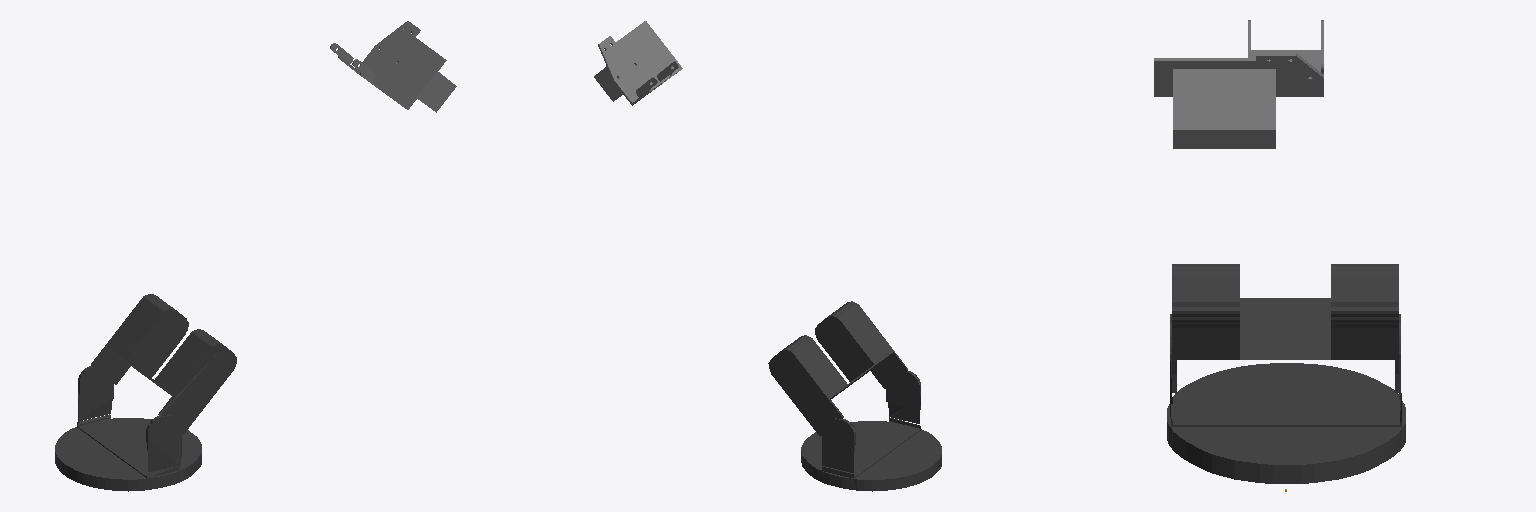
URDF robot description (ax12_arm):
<?xml version="1.0" ?>
<!-- =================================================================================== -->
<!-- |    This document was autogenerated by xacro from ax12_arm_robot.xacro           | -->
<!-- |    EDITING THIS FILE BY HAND IS NOT RECOMMENDED                                 | -->
<!-- =================================================================================== -->
<robot name="ax12_arm" xmlns:controller="http://playerstage.sourceforge.net/gazebo/xmlschema/#controller" xmlns:interface="http://playerstage.sourceforge.net/gazebo/xmlschema/#interface" xmlns:sensor="http://playerstage.sourceforge.net/gazebo/xmlschema/#sensor" xmlns:xacro="http://www.ros.org/wiki/xacro">
  <!-- Included URDF Files -->
  <material name="Grey">
    <color rgba="0.5 0.5 0.5 1.0"/>
  </material>
  <material name="DarkGrey">
    <color rgba="0.3 0.3 0.3 1.0"/>
  </material>
  <material name="Red">
    <color rgba="0.9 0.2 0.2 1.0"/>
  </material>
  <material name="Blue">
    <color rgba="0.2 0.2 0.9 1.0"/>
  </material>
  <link name="base_link">
    <visual>
      <origin rpy="0 0 0" xyz="0 0 0"/>
      <geometry>
        <box size="0.001 0.001 0.001"/>
      </geometry>
    </visual>
    <collision>
      <origin rpy="0 0 0" xyz="0 0 0"/>
      <geometry>
        <box size="0.001 0.001 0.001"/>
      </geometry>
    </collision>
  </link>
  <joint name="arm_base_joint" type="fixed">
    <origin rpy="0 0 0" xyz="0 0 0"/>
    <parent link="base_link"/>
    <child link="arm_base_link"/>
  </joint>
  <joint name="shoulder_pan_joint" type="revolute">
    <origin rpy="0 0 0" xyz="-0.0075 0 0.025"/>
    <parent link="arm_base_link"/>
    <child link="arm_shoulder_pan_link"/>
    <axis xyz="0 0 1"/>
    <limit effort="300" lower="-1.6" upper="1.6" velocity="0.4"/>
    <safety_controller k_position="100" k_velocity="15.0" soft_lower_limit="-1.12" soft_upper_limit="1.12"/>
    <dynamics damping="50" friction="1"/>
  </joint>
  <joint name="shoulder_pitch_joint" type="revolute">
    <origin rpy="0 -0.7854 0" xyz="0.044 0 0.090"/>
    <parent link="arm_shoulder_pan_link"/>
    <child link="arm_shoulder_pitch_link"/>
    <axis xyz="0 1 0"/>
    <limit effort="300" lower="-1.5" upper="1.2" velocity="0.4"/>
    <safety_controller k_position="100" k_velocity="15.0" soft_lower_limit="-0.94719755" soft_upper_limit="1.872222"/>
    <dynamics damping="50" friction="1"/>
  </joint>
  <joint name="elbow_flex_joint" type="revolute">
    <origin rpy="0 0 0" xyz="0.1815 0 0"/>
    <parent link="arm_shoulder_pitch_link"/>
    <child link="arm_elbow_flex_link"/>
    <axis xyz="0 -1 0"/>
    <limit effort="300" lower="-1.5" upper="1.5" velocity="0.4"/>
    <dynamics damping="50" friction="1"/>
    <safety_controller k_position="100" k_velocity="15.0" soft_lower_limit="-1.872222" soft_upper_limit="1.7849556"/>
  </joint>
  <joint name="wrist_roll_joint" type="revolute">
    <origin rpy="3.14159 0 0" xyz="0.07 0 0.023"/>
    <parent link="arm_elbow_flex_link"/>
    <child link="gripper_roll_link"/>
    <axis xyz="1 0 0"/>
    <limit effort="300" lower="-1.5" upper="1.5" velocity="1.17"/>
    <dynamics damping="50" friction="1"/>
    <safety_controller k_position="100" k_velocity="15.0" soft_lower_limit="-2.5179939" soft_upper_limit="2.5179939"/>
  </joint>
  <link name="arm_base_link">
    <inertial>
      <mass value="0.125"/>
      <origin rpy="0 0 0" xyz="0 0 0.00893364"/>
      <inertia ixx="1.0" ixy="0.0" ixz="0.0" iyy="1.0" iyz="0.0" izz="1.0"/>
    </inertial>
    <visual>
      <origin rpy="0 0 0" xyz="0.0 0.0 0.0"/>
      <geometry>
        <mesh filename="package://ax12_description/meshes/stl/arm_base.stl"/>
      </geometry>
      <material name="Grey"/>
    </visual>
    <collision>
      <origin rpy="0 0 0" xyz="0.0 0.0 0.0"/>
      <geometry>
        <mesh filename="package://ax12_description/meshes/stl/arm_base.stl"/>
      </geometry>
    </collision>
  </link>
  <link name="arm_shoulder_pan_link">
    <inertial>
      <mass value="0.405"/>
      <origin rpy="0 0 0" xyz="0.02988871 0 0.02056699"/>
      <inertia ixx="1.0" ixy="0.0" ixz="0.0" iyy="1.0" iyz="0.0" izz="1.0"/>
    </inertial>
    <visual>
      <origin rpy="0 0 0" xyz="0.0 0.0 0.005"/>
      <geometry>
        <mesh filename="package://ax12_description/meshes/stl/arm_shoulder_pan_new.stl"/>
      </geometry>
      <material name="DarkGrey"/>
    </visual>
    <collision>
      <origin rpy="0 0 0" xyz="0.0 0.0 0.0"/>
      <geometry>
        <mesh filename="package://ax12_description/meshes/stl/arm_shoulder_pan_new.stl"/>
      </geometry>
    </collision>
  </link>
  <link name="arm_shoulder_pitch_link">
    <inertial>
      <mass value="0.18"/>
      <origin rpy="0 0 0" xyz="0.13999458 0 0.00064711"/>
      <inertia ixx="1.0" ixy="0.0" ixz="0.0" iyy="1.0" iyz="0.0" izz="1.0"/>
    </inertial>
    <visual>
      <origin rpy="0 0 0" xyz="0.0 0.0 0.0"/>
      <geometry>
        <mesh filename="package://ax12_description/meshes/stl/arm_shoulder_pitch.stl"/>
      </geometry>
      <material name="Grey"/>
    </visual>
    <collision>
      <origin rpy="0 0 0" xyz="0.0 0.0 0.0"/>
      <geometry>
        <mesh filename="package://ax12_description/meshes/stl/arm_shoulder_pitch.stl"/>
      </geometry>
    </collision>
  </link>
  <link name="arm_elbow_flex_link">
    <inertial>
      <mass value="0.12"/>
      <origin rpy="0 0 0" xyz="0.04463361 0 0.00720194"/>
      <inertia ixx="1.0" ixy="0.0" ixz="0.0" iyy="1.0" iyz="0.0" izz="1.0"/>
    </inertial>
    <visual>
      <origin rpy="0 0 0" xyz="0.0 0.0 0.0"/>
      <geometry>
        <mesh filename="package://ax12_description/meshes/stl/arm_elbow_flex.stl"/>
      </geometry>
      <material name="DarkGrey"/>
    </visual>
    <collision>
      <origin rpy="0 0 0" xyz="0.0 0.0 0.0"/>
      <geometry>
        <mesh filename="package://ax12_description/meshes/stl/arm_elbow_flex.stl"/>
      </geometry>
    </collision>
  </link>
  <transmission name="shoulder_pan_trans" type="pr2_mechanism_model/SimpleTransmission">
    <actuator name="shoulder_pan_motor"/>
    <joint name="shoulder_pan_joint"/>
    <mechanicalReduction>1.0</mechanicalReduction>
  </transmission>
  <transmission name="shoulder_pitch_trans" type="pr2_mechanism_model/SimpleTransmission">
    <actuator name="shoulder_pitch_motor"/>
    <joint name="shoulder_pitch_joint"/>
    <mechanicalReduction>1.0</mechanicalReduction>
  </transmission>
  <transmission name="elbow_flex_trans" type="pr2_mechanism_model/SimpleTransmission">
    <actuator name="elbow_flex_motor"/>
    <joint name="elbow_flex_joint"/>
    <mechanicalReduction>1.0</mechanicalReduction>
  </transmission>
  <transmission name="wrist_roll_trans" type="pr2_mechanism_model/SimpleTransmission">
    <actuator name="wrist_roll_motor"/>
    <joint name="wrist_roll_joint"/>
    <mechanicalReduction>1.0</mechanicalReduction>
  </transmission>
  <gazebo reference="arm_base_link">
    <material>Gazebo/Grey</material>
    <turnGravityOff>false</turnGravityOff>
  </gazebo>
  <gazebo reference="arm_shoulder_pan_link">
    <material>Gazebo/Grey</material>
    <turnGravityOff>false</turnGravityOff>
  </gazebo>
  <gazebo reference="arm_shoulder_pitch_link">
    <material>Gazebo/Grey</material>
    <turnGravityOff>false</turnGravityOff>
  </gazebo>
  <gazebo reference="arm_elbow_flex_link">
    <material>Gazebo/Grey</material>
    <turnGravityOff>false</turnGravityOff>
  </gazebo>
  <gazebo reference="shoulder_pan_joint">
    <stopKd value="1.0"/>
    <stopKp value="1000000.0"/>
    <fudgeFactor value="0.5"/>
  </gazebo>
  <gazebo reference="shoulder_pitch_joint">
    <stopKd value="1.0"/>
    <stopKp value="1000000.0"/>
    <fudgeFactor value="0.5"/>
  </gazebo>
  <gazebo reference="elbow_flex_joint">
    <stopKd value="1.0"/>
    <stopKp value="1000000.0"/>
    <fudgeFactor value="0.5"/>
  </gazebo>
  <link name="gripper_roll_link">
    <inertial>
      <origin xyz="0 0 0"/>
      <mass value="1.0"/>
      <inertia ixx="1.0" ixy="0.0" ixz="0.0" iyy="1.0" iyz="0.0" izz="1.0"/>
    </inertial>
    <visual>
      <origin rpy="0 0 0" xyz="0 0 0"/>
      <geometry>
        <mesh filename="package://ax12_description/meshes/stl/gripper_roll_link_scaled.stl"/>
      </geometry>
      <material name="Grey"/>
    </visual>
    <collision>
      <origin rpy="0 0 0" xyz="0 0 0"/>
      <geometry>
        <mesh filename="package://ax12_description/meshes/stl/gripper_roll_link_scaled.stl"/>
      </geometry>
    </collision>
  </link>
  <gazebo reference="gripper_roll_link">
    <material>Gazebo/Grey</material>
    <turnGravityOff>false</turnGravityOff>
  </gazebo>
  <joint name="gripper_joint" type="revolute">
    <parent link="gripper_roll_link"/>
    <child link="gripper_finger_link"/>
    <origin rpy="2.58 1.570795 0.603534345556" xyz="0.026 0.018  0"/>
    <axis xyz="1 0 0"/>
    <limit effort="300" lower="-0.15" upper="0.55" velocity="1"/>
    <dynamics damping="50" friction="1"/>
  </joint>
  <link name="gripper_finger_link">
    <inertial>
      <origin xyz="0 0 0"/>
      <mass value="1.0"/>
      <inertia ixx="1.0" ixy="0.0" ixz="0.0" iyy="1.0" iyz="0.0" izz="1.0"/>
    </inertial>
    <visual>
      <origin rpy="0 0 3.14159" xyz="0 0 0"/>
      <geometry>
        <mesh filename="package://ax12_description/meshes/stl/l_gripper_aft_link.STL"/>
      </geometry>
      <material name="Blue"/>
    </visual>
    <collision>
      <origin rpy="0 0 3.14159" xyz="0 0 0"/>
      <geometry>
        <mesh filename="package://ax12_description/meshes/stl/l_gripper_aft_link.STL"/>
      </geometry>
    </collision>
  </link>
  <gazebo reference="gripper_finger_link">
    <material>Gazebo/Blue</material>
    <turnGravityOff>false</turnGravityOff>
  </gazebo>
  <joint name="r_gripper_aft_joint" type="revolute">
    <parent link="gripper_roll_link"/>
    <child link="r_gripper_aft_link"/>
    <origin rpy="-1.35 1.570795 0.603534345556" xyz="0.026 -0.011  0"/>
    <axis xyz="1 0 0"/>
    <limit effort="300" lower="-0.55" upper="0.15" velocity="1"/>
    <dynamics damping="50" friction="1"/>
  </joint>
  <link name="r_gripper_aft_link">
    <inertial>
      <origin xyz="0 0 0"/>
      <mass value="1.0"/>
      <inertia ixx="1.0" ixy="0.0" ixz="0.0" iyy="100.0" iyz="0.0" izz="1.0"/>
    </inertial>
    <visual>
      <origin rpy="0 0 3.14159" xyz="0 0 0"/>
      <geometry>
        <mesh filename="package://ax12_description/meshes/stl/r_gripper_aft_link.STL"/>
      </geometry>
      <material name="Blue"/>
    </visual>
    <collision>
      <origin rpy="0 0 3.14159" xyz="0 0 0"/>
      <geometry>
        <mesh filename="package://ax12_description/meshes/stl/r_gripper_aft_link.STL"/>
      </geometry>
    </collision>
  </link>
  <gazebo reference="r_gripper_aft_link">
    <material>Gazebo/Blue</material>
    <turnGravityOff>false</turnGravityOff>
  </gazebo>
  <joint name="l_gripper_fwd_joint" type="revolute">
    <parent link="gripper_roll_link"/>
    <child link="l_gripper_fwd_link"/>
    <origin rpy="2.6 1.570795 3.74512434556" xyz="0.05 0.008 0.007"/>
    <axis xyz="1 0 0"/>
    <limit effort="300" lower="-0.15" upper="0.55" velocity="1"/>
    <dynamics damping="50" friction="1"/>
  </joint>
  <link name="l_gripper_fwd_link">
    <inertial>
      <origin xyz="0 0 0"/>
      <mass value="1.0"/>
      <inertia ixx="1.0" ixy="0.0" ixz="0.0" iyy="100.0" iyz="0.0" izz="1.0"/>
    </inertial>
    <visual>
      <origin rpy="0 0 3.14159" xyz="0 0 0"/>
      <geometry>
        <mesh filename="package://ax12_description/meshes/stl/l_gripper_fwd_link.STL"/>
      </geometry>
      <material name="Blue"/>
    </visual>
    <collision>
      <origin rpy="0 0 3.14159" xyz="0 0 0"/>
      <geometry>
        <mesh filename="package://ax12_description/meshes/stl/l_gripper_fwd_link.STL"/>
      </geometry>
    </collision>
  </link>
  <gazebo reference="l_gripper_fwd_link">
    <material>Gazebo/Blue</material>
    <turnGravityOff>false</turnGravityOff>
  </gazebo>
  <joint name="r_gripper_fwd_joint" type="revolute">
    <parent link="gripper_roll_link"/>
    <child link="r_gripper_fwd_link"/>
    <origin rpy="3.7 1.570795 2.53805565444" xyz="0.05 -0.0014 0.007"/>
    <axis xyz="1 0 0"/>
    <limit effort="300" lower="-0.55" upper="0.15" velocity="1"/>
    <dynamics damping="50" friction="1"/>
  </joint>
  <link name="r_gripper_fwd_link">
    <inertial>
      <origin xyz="0 0 0"/>
      <mass value="1.0"/>
      <inertia ixx="1.0" ixy="0.0" ixz="0.0" iyy="100.0" iyz="0.0" izz="1.0"/>
    </inertial>
    <visual>
      <origin rpy="0 0 3.14159" xyz="0 0 0"/>
      <geometry>
        <mesh filename="package://ax12_description/meshes/stl/r_gripper_fwd_link.STL"/>
      </geometry>
      <material name="Blue"/>
    </visual>
    <collision>
      <origin rpy="0 0 3.14159" xyz="0 0 0"/>
      <geometry>
        <mesh filename="package://ax12_description/meshes/stl/r_gripper_fwd_link.STL"/>
      </geometry>
    </collision>
  </link>
  <gazebo reference="r_gripper_fwd_link">
    <material>Gazebo/Blue</material>
    <turnGravityOff>false</turnGravityOff>
  </gazebo>
  <joint name="gripper_finger_pincher_joint" type="revolute">
    <parent link="gripper_finger_link"/>
    <child link="l_gripper_pincher_link"/>
    <origin rpy="-2.99159 0 0" xyz="-0.0032 0 -0.0508"/>
    <axis xyz="1 0 0"/>
    <limit effort="300" lower="-0.55" upper="0.15" velocity="1"/>
    <dynamics damping="50" friction="1"/>
  </joint>
  <link name="l_gripper_pincher_link">
    <inertial>
      <origin xyz="0 0 0"/>
      <mass value="1.0"/>
      <inertia ixx="1.0" ixy="0.0" ixz="0.0" iyy="100.0" iyz="0.0" izz="1.0"/>
    </inertial>
    <visual>
      <origin rpy="0 0 3.14159" xyz="0 0 0"/>
      <geometry>
        <mesh filename="package://ax12_description/meshes/stl/l_gripper_pincher.STL"/>
      </geometry>
      <material name="Red"/>
    </visual>
    <collision>
      <origin rpy="0 0 3.14159" xyz="0 0 0"/>
      <geometry>
        <mesh filename="package://ax12_description/meshes/stl/l_gripper_pincher.STL"/>
      </geometry>
    </collision>
  </link>
  <gazebo reference="l_gripper_pincher_link">
    <material>Gazebo/Red</material>
    <turnGravityOff>false</turnGravityOff>
  </gazebo>
  <joint name="r_gripper_aft_pincher_joint" type="revolute">
    <parent link="r_gripper_aft_link"/>
    <child link="r_gripper_pincher_link"/>
    <origin rpy="0.15 3.14159 0" xyz="0 0 -0.0508"/>
    <axis xyz="1 0 0"/>
    <limit effort="300" lower="-0.55" upper="0.15" velocity="1"/>
    <dynamics damping="50" friction="1"/>
  </joint>
  <link name="r_gripper_pincher_link">
    <inertial>
      <origin xyz="0 0 0"/>
      <mass value="1.0"/>
      <inertia ixx="1.0" ixy="0.0" ixz="0.0" iyy="100.0" iyz="0.0" izz="1.0"/>
    </inertial>
    <visual>
      <origin rpy="0 0 3.14159" xyz="0 0 0"/>
      <geometry>
        <mesh filename="package://ax12_description/meshes/stl/r_gripper_pincher.STL"/>
      </geometry>
      <material name="Red"/>
    </visual>
    <collision>
      <origin rpy="0 0 3.14159" xyz="0 0 0"/>
      <geometry>
        <mesh filename="package://ax12_description/meshes/stl/r_gripper_pincher.STL"/>
      </geometry>
    </collision>
  </link>
  <gazebo reference="r_gripper_pincher_link">
    <material>Gazebo/Red</material>
    <turnGravityOff>false</turnGravityOff>
  </gazebo>
</robot>

--- Facts derived from the render (not from the file) ---
The picture shows the robot from 3 angles, left to right: view 1: azimuth 30°, elevation 25°; view 2: azimuth 150°, elevation 25°; view 3: azimuth 270°, elevation 25°; orthographic projection.
Robot: ax12_arm — 12 links, 11 joints (10 revolute, 1 fixed); root link base_link; default pose: all joints at 0.
Visible links, largest first — view 1: arm_shoulder_pan_link, gripper_roll_link; view 2: arm_shoulder_pan_link, gripper_roll_link; view 3: arm_shoulder_pan_link, gripper_roll_link.
Link boxes in pixels (x1,y1,x2,y2): arm_shoulder_pan_link: (55, 294, 236, 491); gripper_roll_link: (330, 21, 456, 112); arm_shoulder_pan_link: (768, 301, 941, 491); gripper_roll_link: (594, 21, 682, 105); arm_shoulder_pan_link: (1167, 264, 1405, 483); gripper_roll_link: (1154, 20, 1323, 148).
Bounding box of the posed robot: 0.3204 × 0.1194 × 0.3425 m (x, y, z).
Meshes: 11 distinct files referenced, 2 mesh visuals loaded (2 binary STL); not drawn: 9 (reference not matched to a file when rendering).